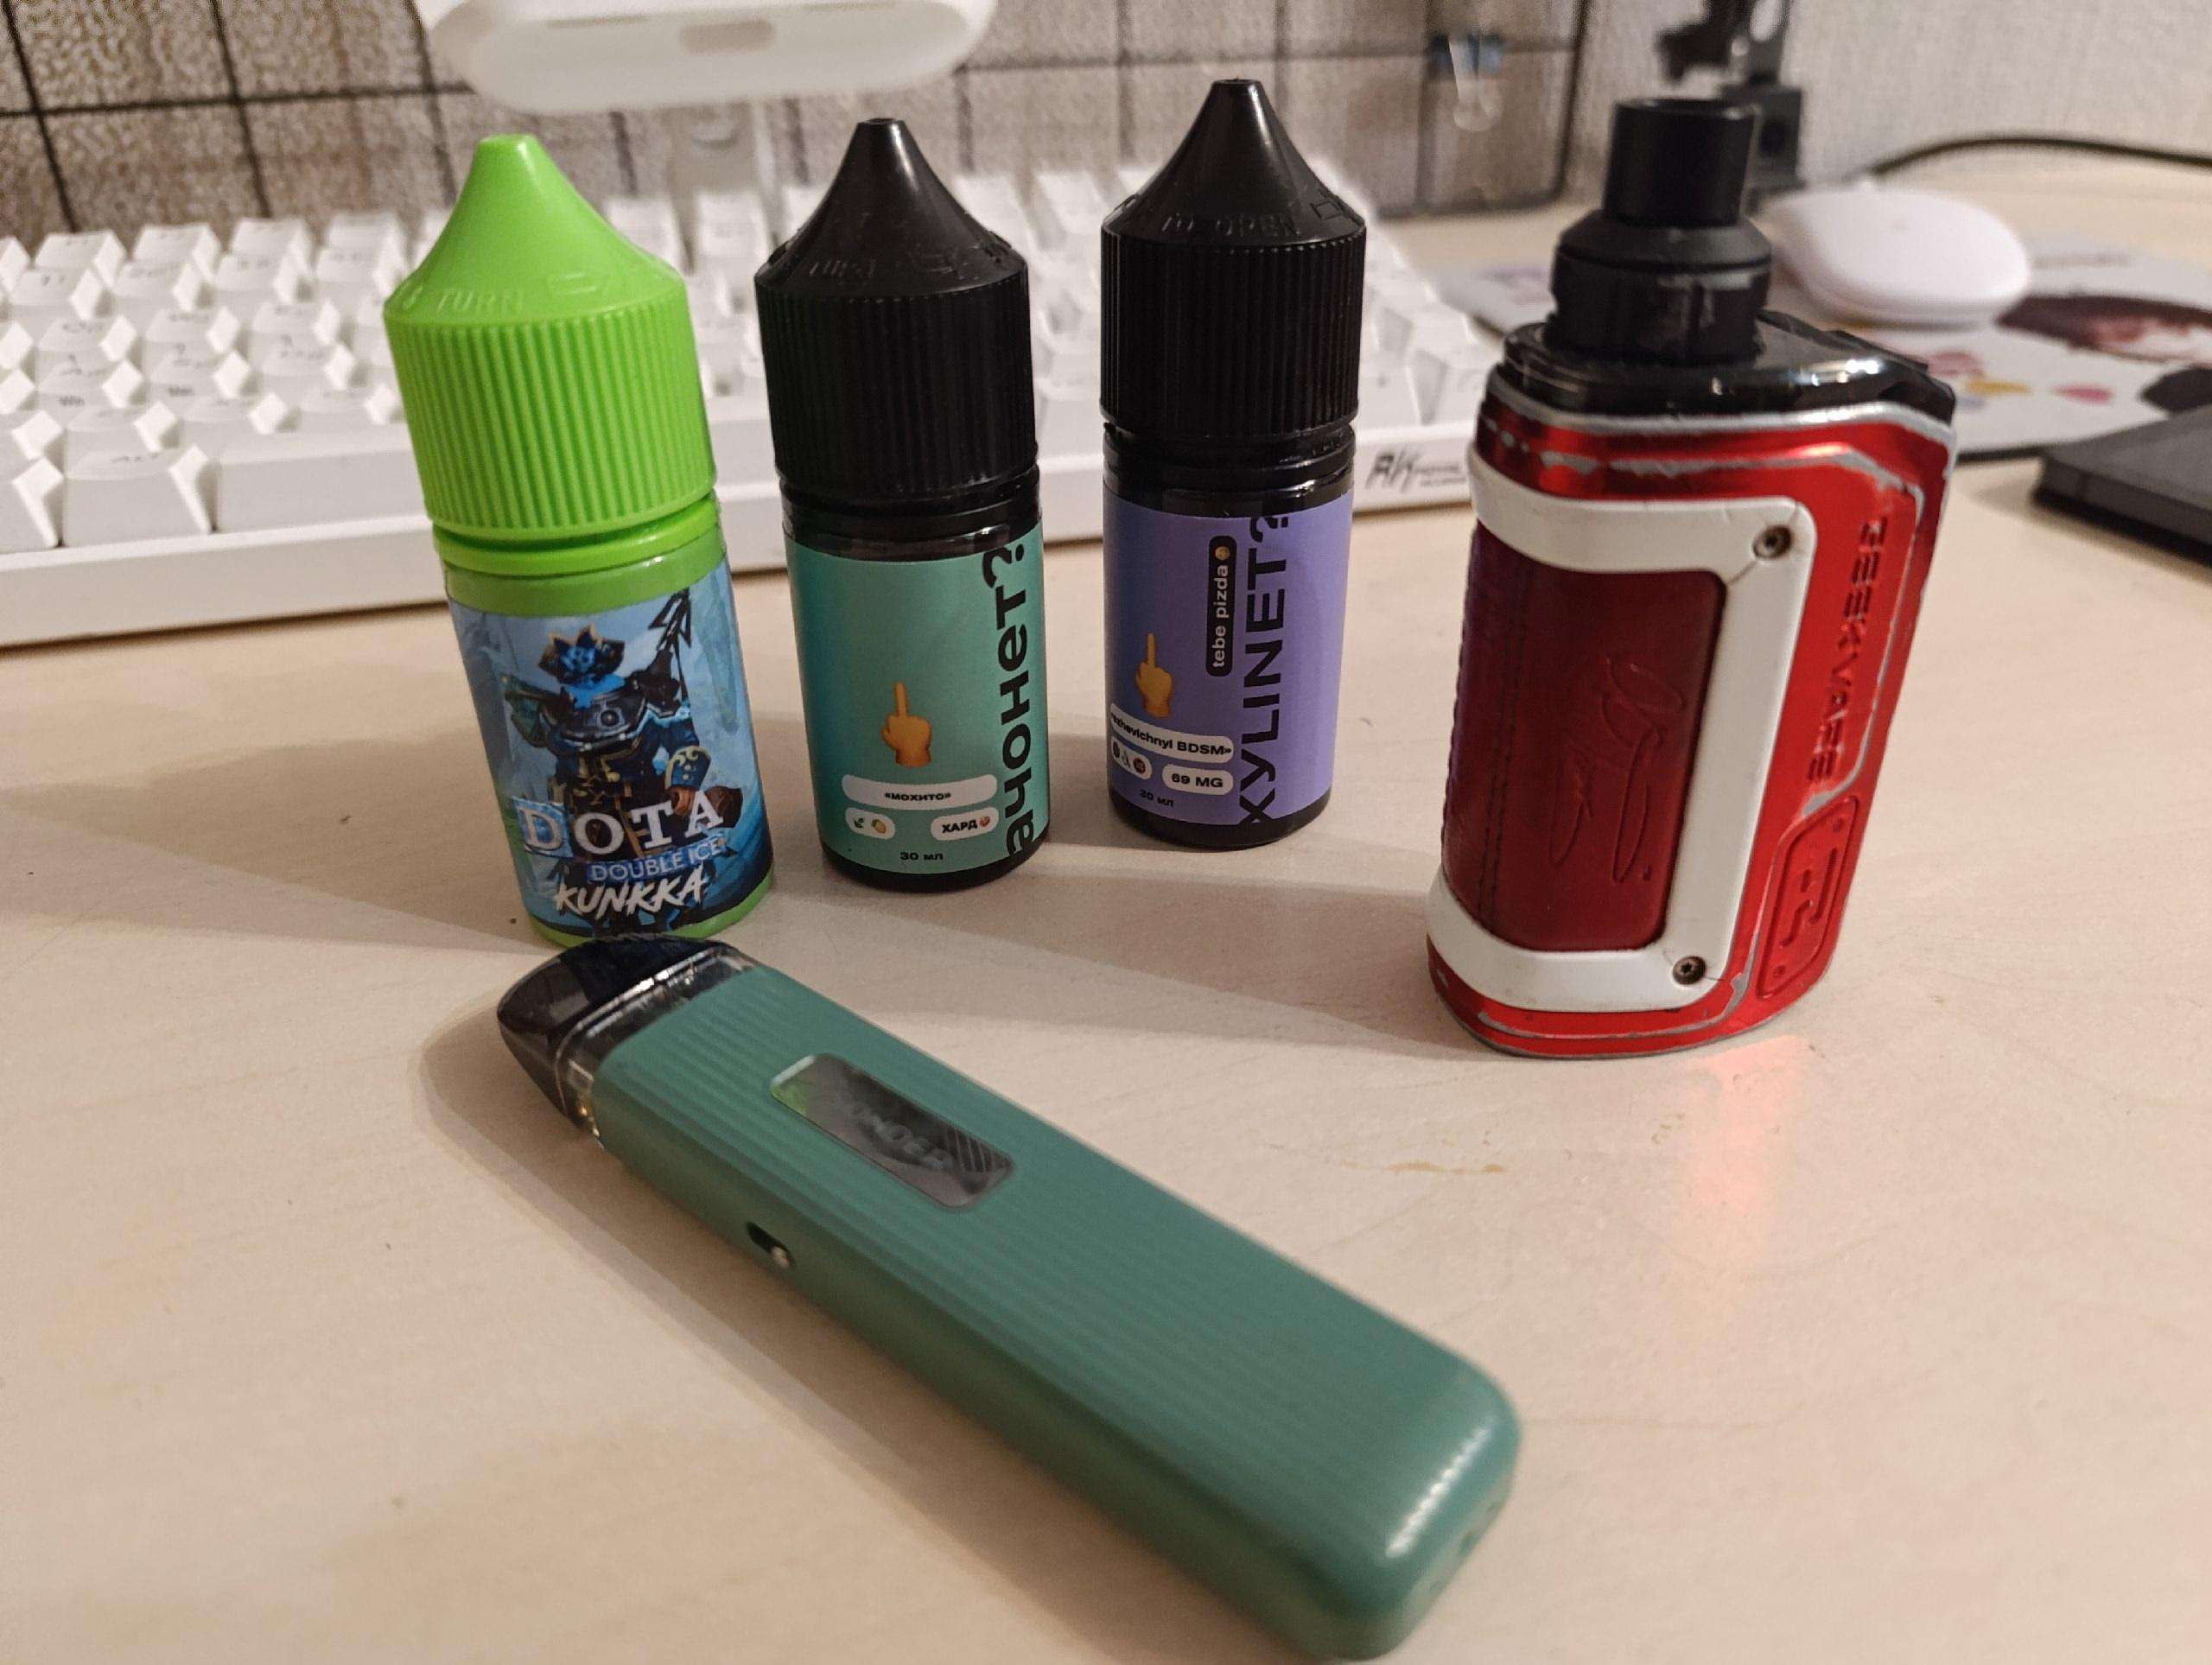Vape: (497, 937, 1518, 1658), (1427, 98, 1953, 1056)
